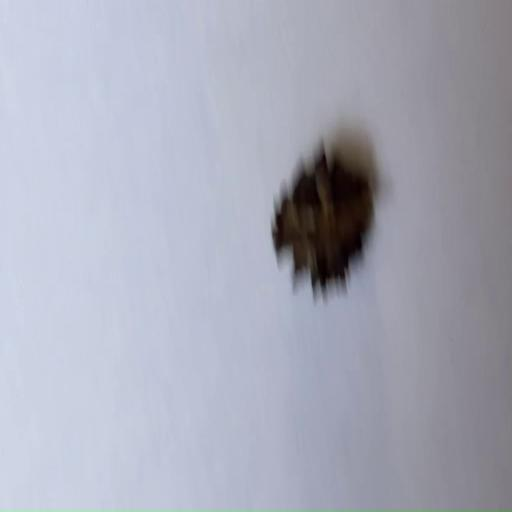papaya_seed: (272, 137, 387, 325)
